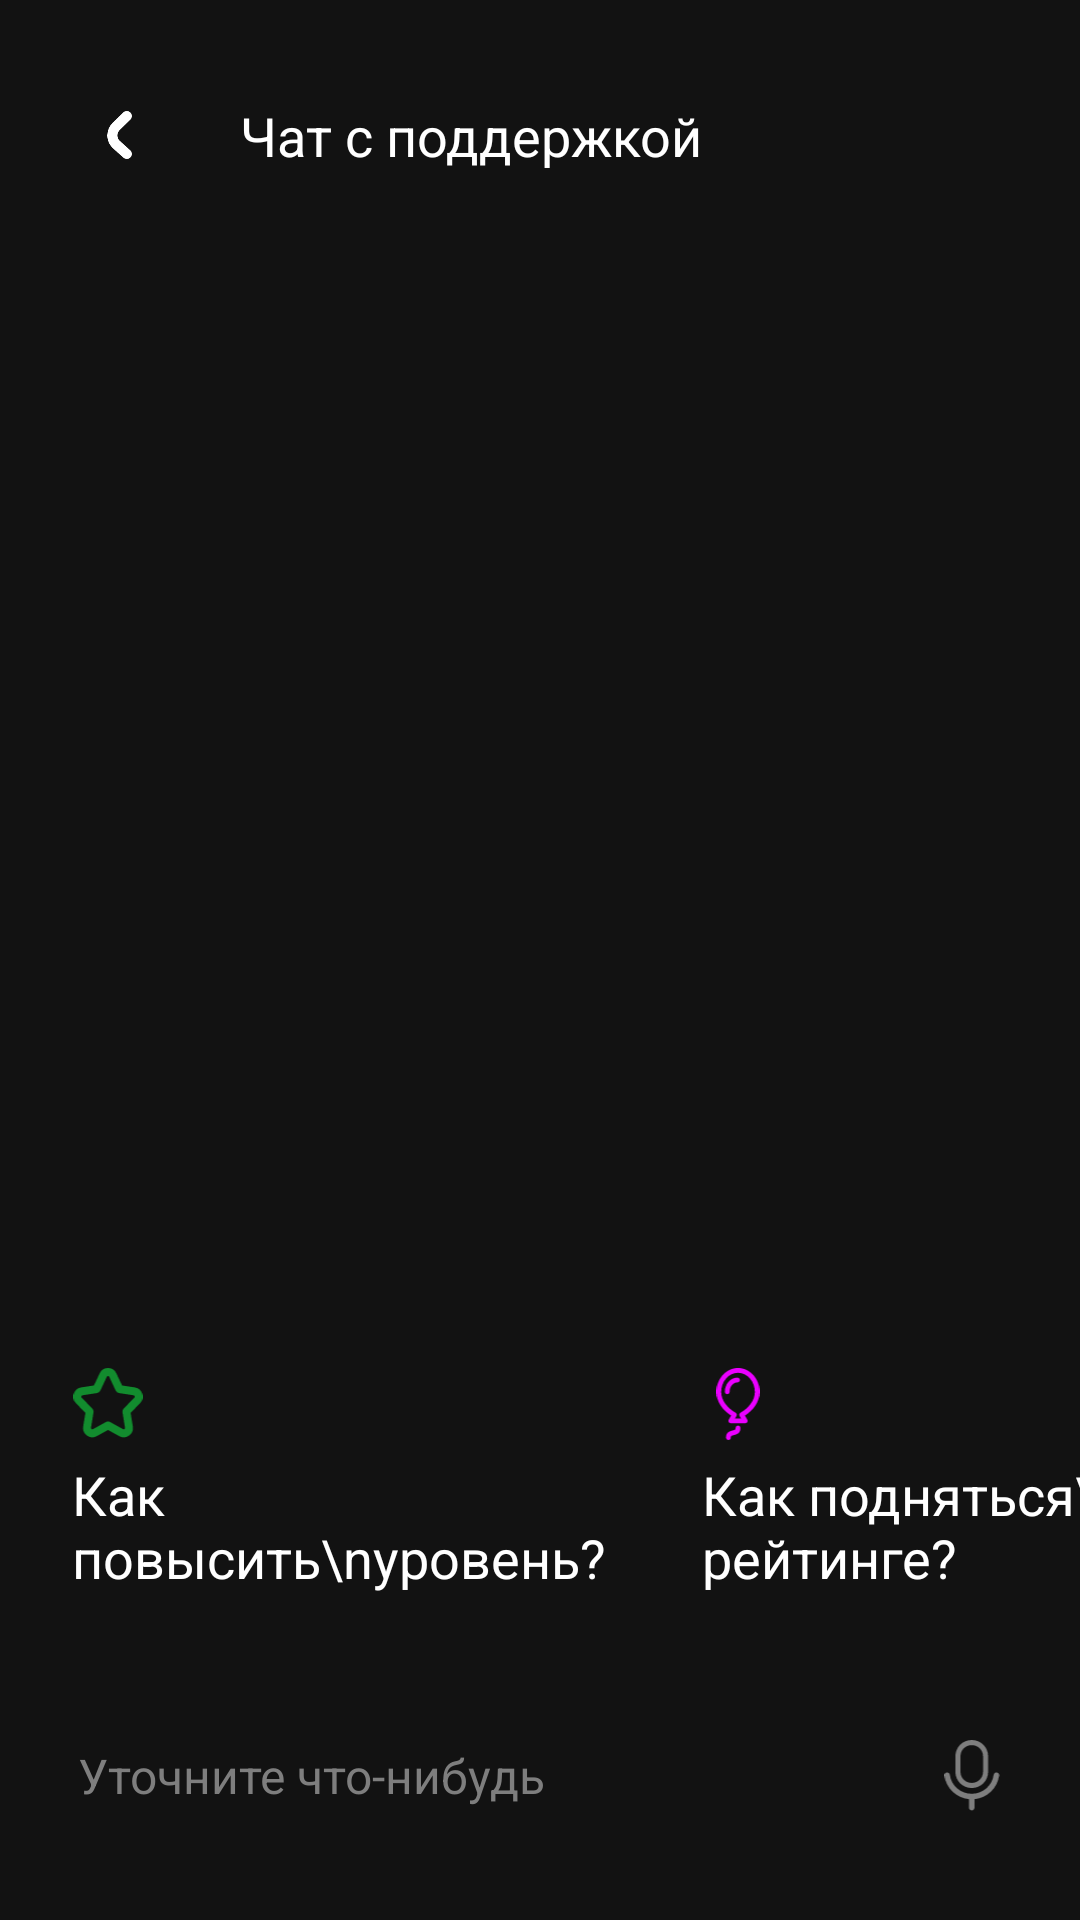

Named icons in this screenshot (1080w x 1920h) and their bounding boxes, (x1, y1, x2, y2):
voice: (944, 1740, 1000, 1811)
